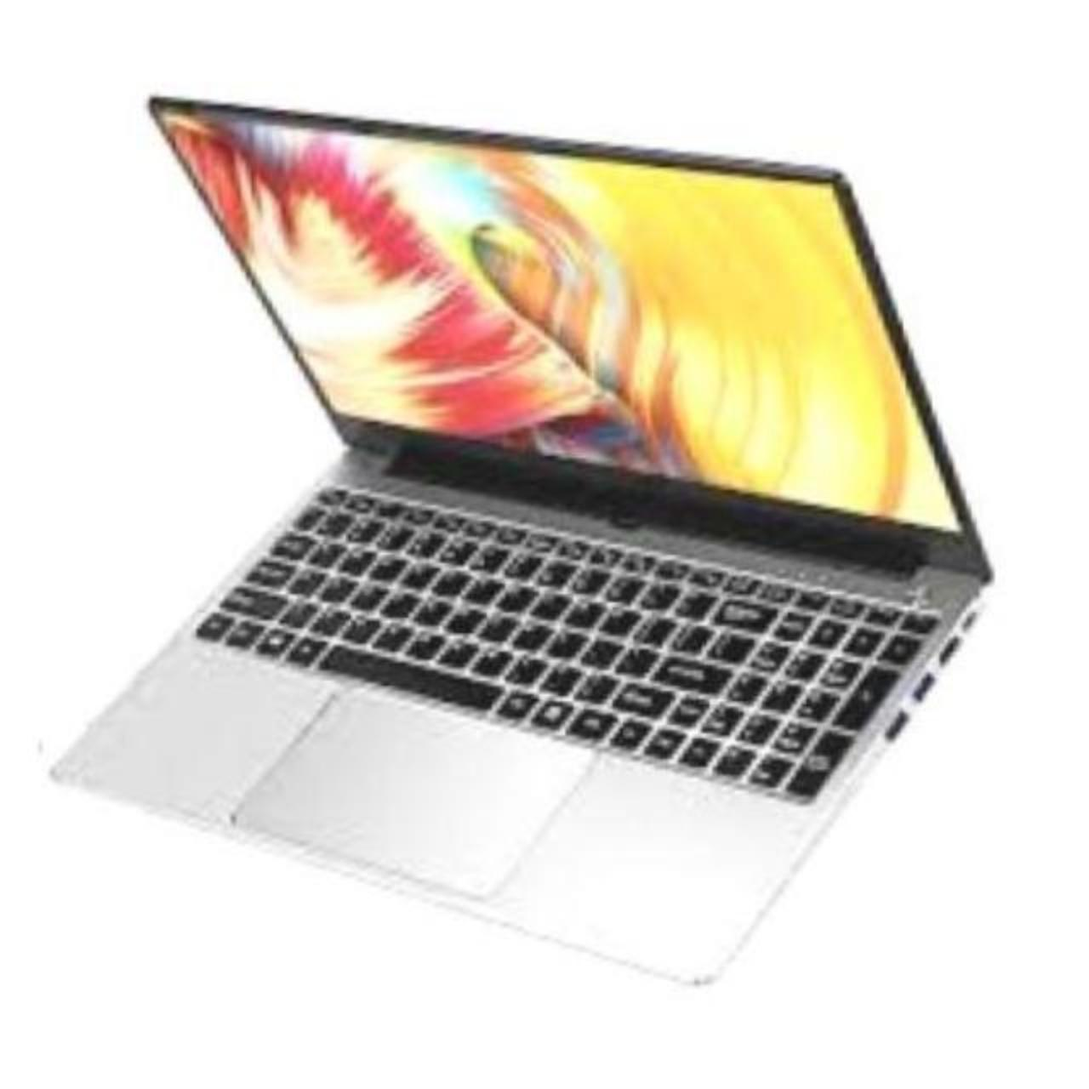laptop: (22, 37, 1060, 1059)
